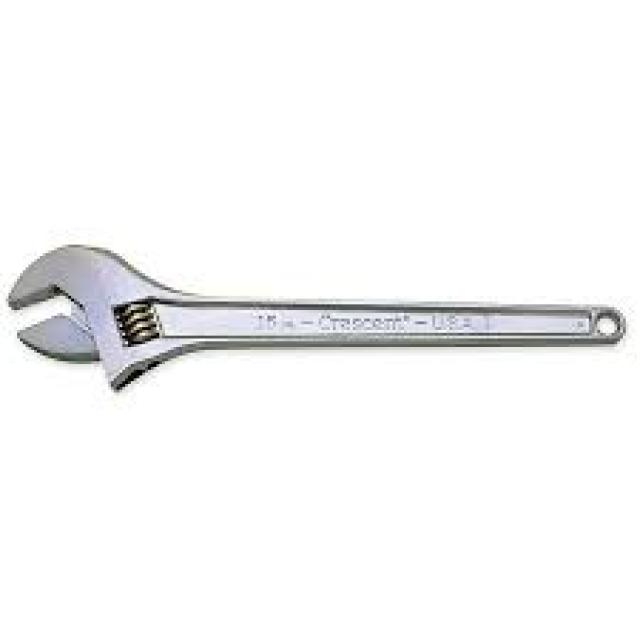wrench: (1, 219, 437, 440)
